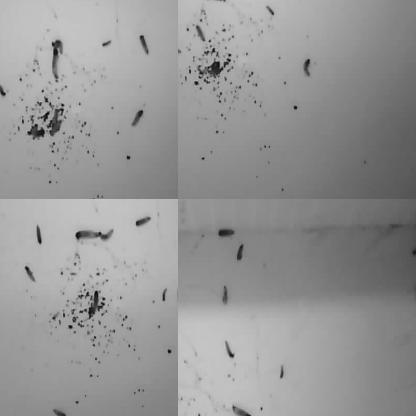PtecticusTenebrifer: (75, 230, 101, 241), (231, 403, 253, 416), (131, 108, 144, 129), (139, 35, 150, 57), (195, 23, 206, 44), (302, 56, 312, 79), (52, 49, 59, 81), (24, 264, 35, 284), (218, 227, 236, 239), (223, 340, 235, 358), (101, 228, 115, 242), (51, 40, 64, 54), (207, 0, 229, 8), (35, 223, 43, 245), (93, 289, 99, 316), (178, 62, 186, 82), (135, 217, 151, 227), (237, 244, 244, 264), (178, 82, 187, 96), (53, 407, 67, 416), (294, 0, 309, 8), (162, 286, 169, 303), (0, 262, 6, 281), (223, 285, 228, 307), (178, 231, 183, 253), (9, 0, 22, 8), (0, 100, 4, 126), (0, 321, 8, 334), (28, 199, 43, 205), (100, 41, 112, 48), (0, 82, 6, 96), (178, 45, 186, 55), (178, 95, 184, 107), (364, 0, 378, 4), (178, 0, 183, 9), (0, 0, 8, 5), (178, 0, 186, 5), (0, 199, 7, 204)
